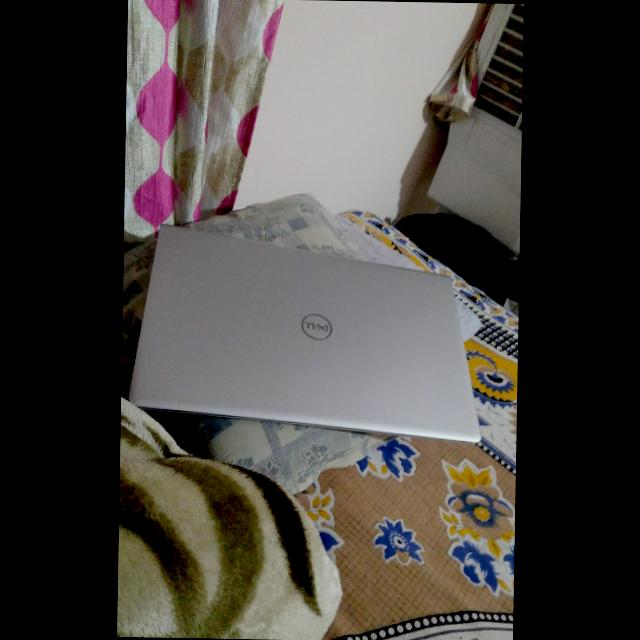laptop: (120, 212, 494, 440)
